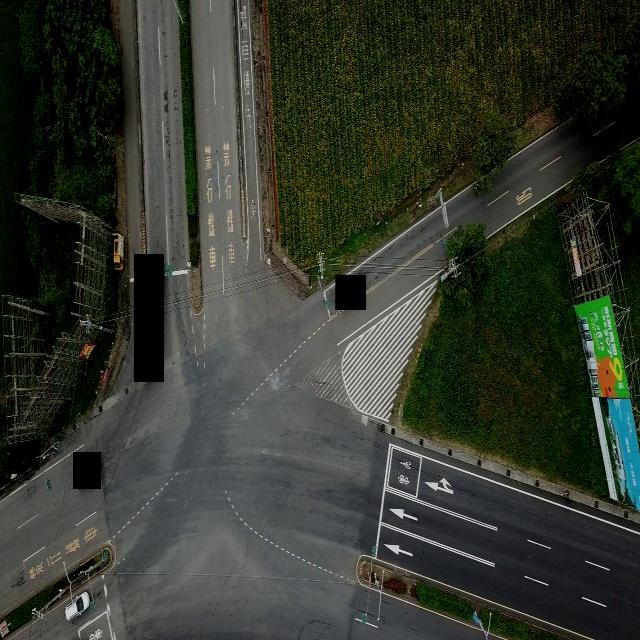car: (64, 590, 92, 622)
